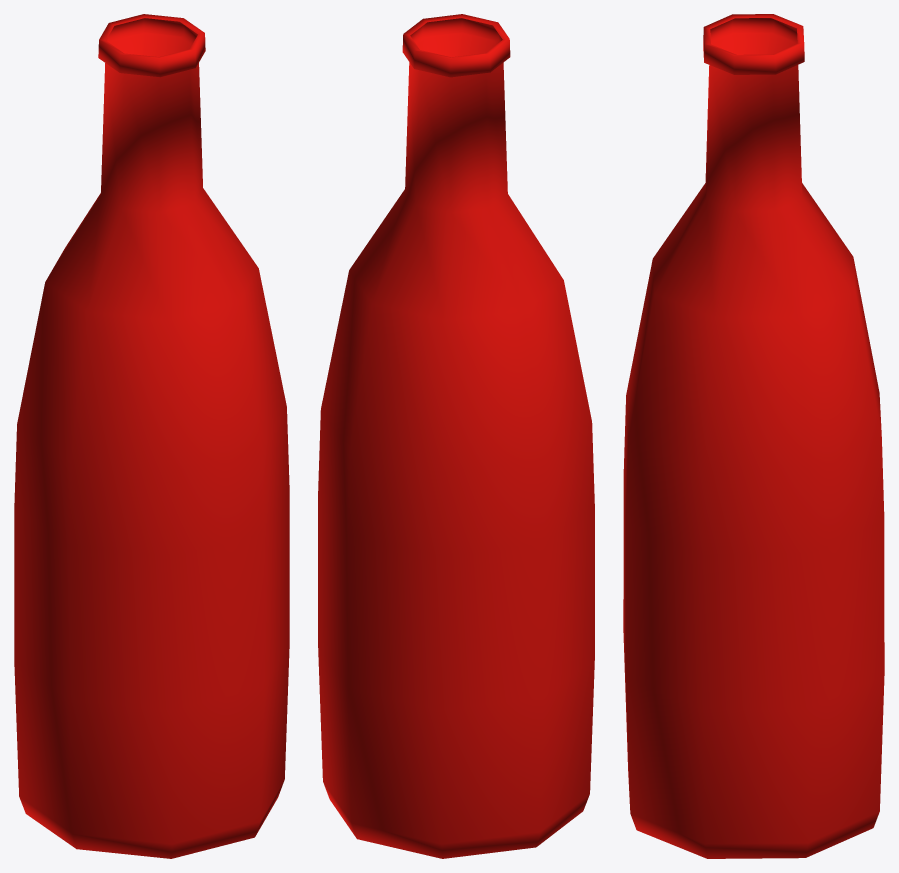
The model's file is bottle_004.fbx.
3 views of the same model, side by side, from view 1: azimuth 30°, elevation 25°; view 2: azimuth 150°, elevation 25°; view 3: azimuth 270°, elevation 25° (orthographic).
Visible parts, largest first — view 1: bottle.004; view 2: bottle.004; view 3: bottle.004.
Part boxes in pixels (left/top/right/bottom): bottle.004: left=14, top=14, right=289, bottom=858; bottle.004: left=318, top=14, right=594, bottom=858; bottle.004: left=623, top=14, right=884, bottom=858.
Bounding box in the file's own units: 15.01 × 49.05 × 15.01.
